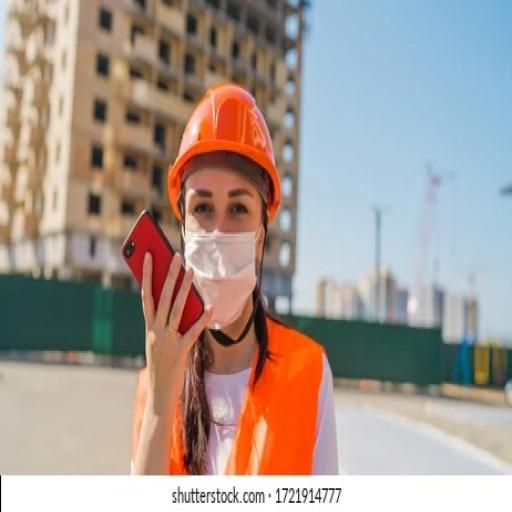mask: (182, 232, 264, 328)
